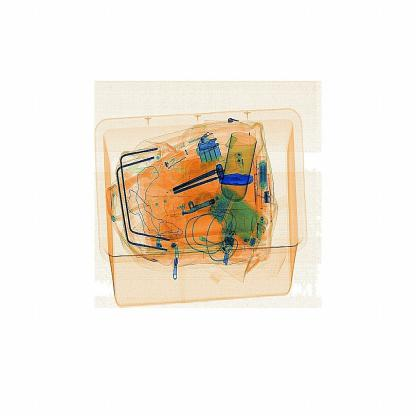knife: (216, 164, 267, 192)
